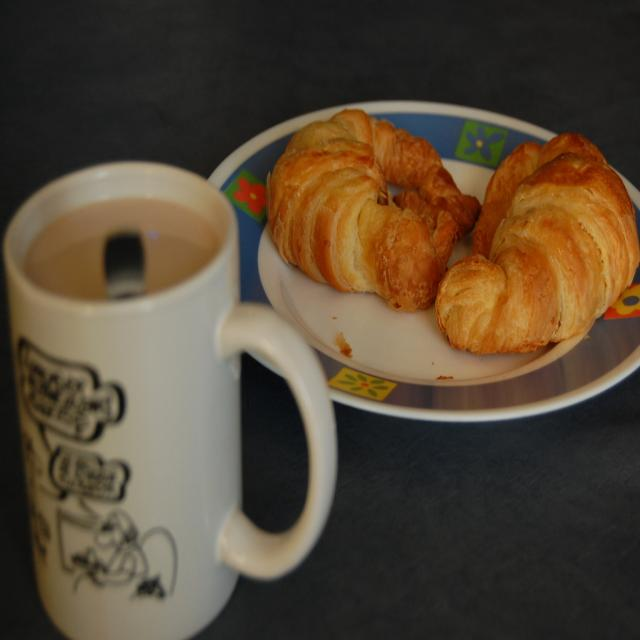Coffee: (22, 193, 218, 309)
